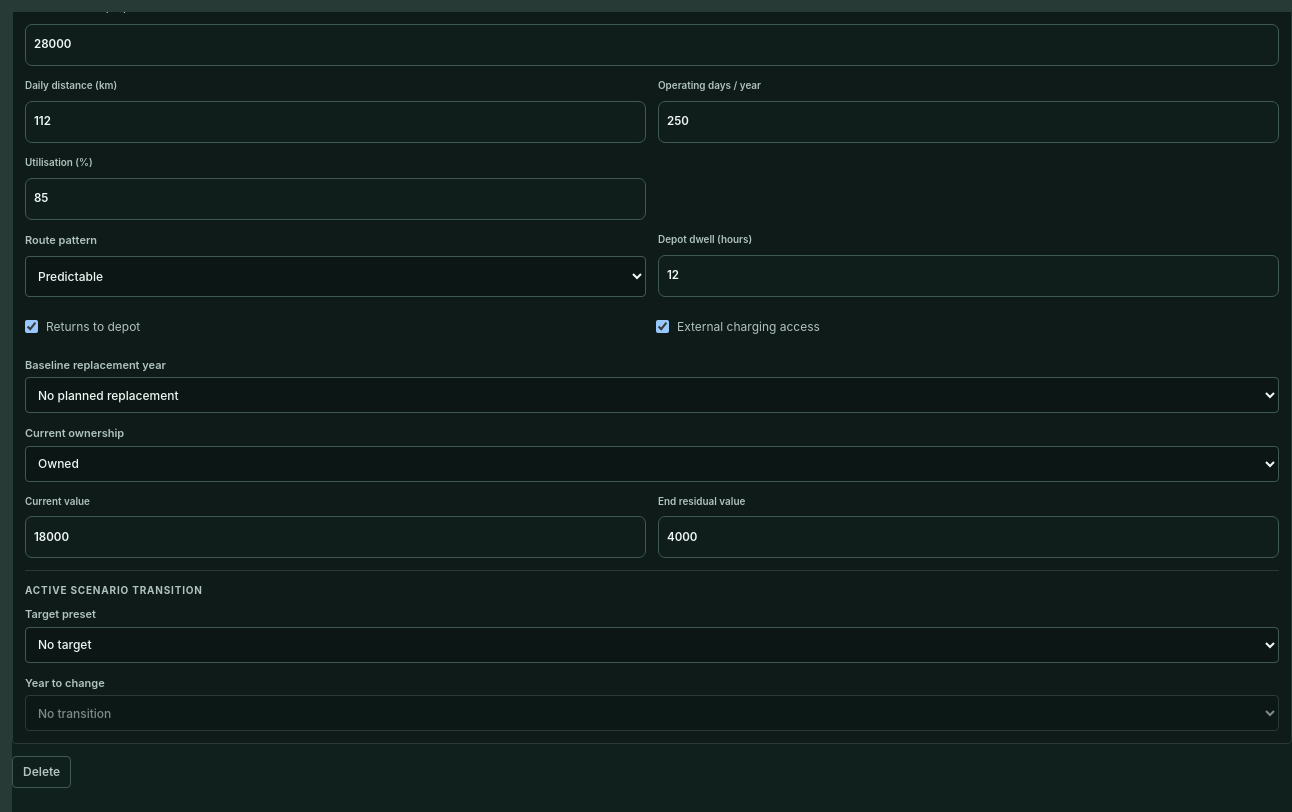
Test: Fleet Management › keeps invalid utilisation drafts out of the Project document
(page scrolled)
Replace the text in the number field labelled "Utilisation (%)" with "150": (336,199) [25,178,646,220]
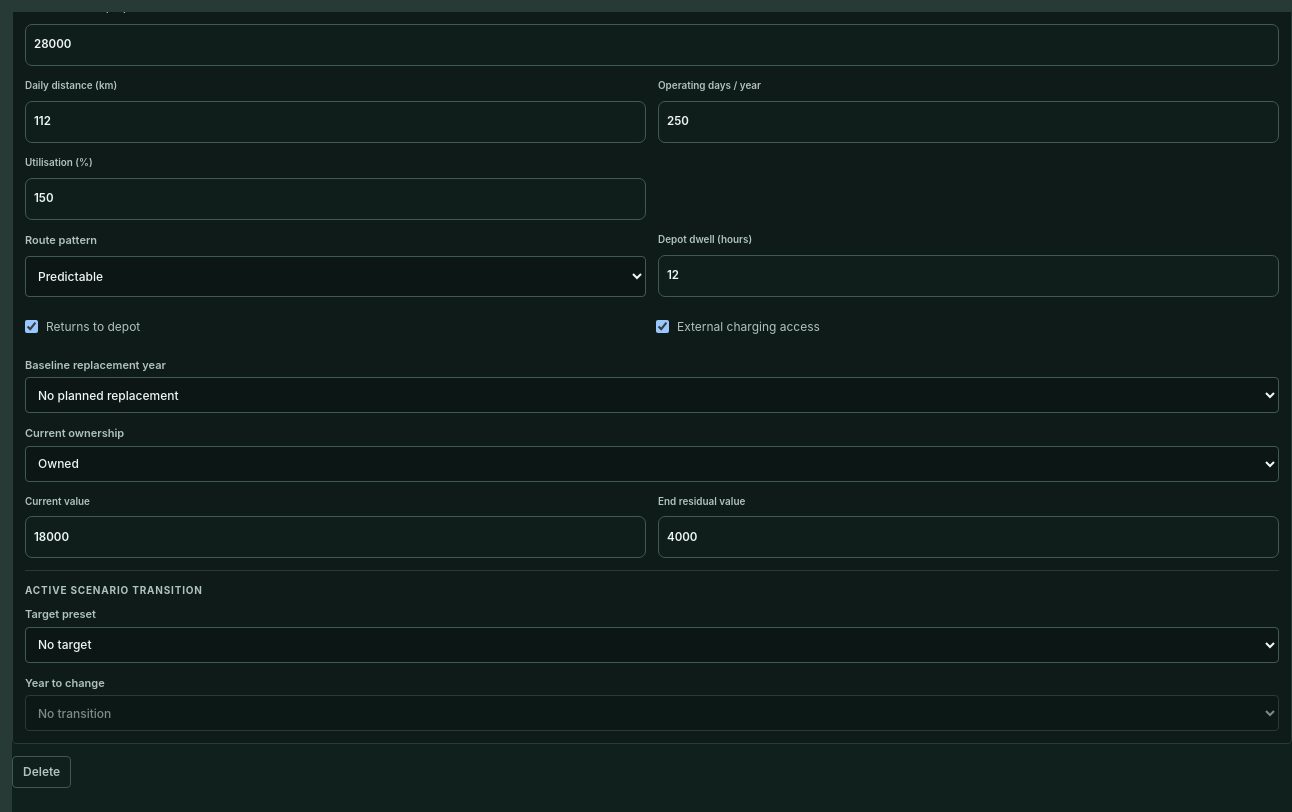
Leave the number field labelled "Utilisation (%)", box [25,178,646,220]
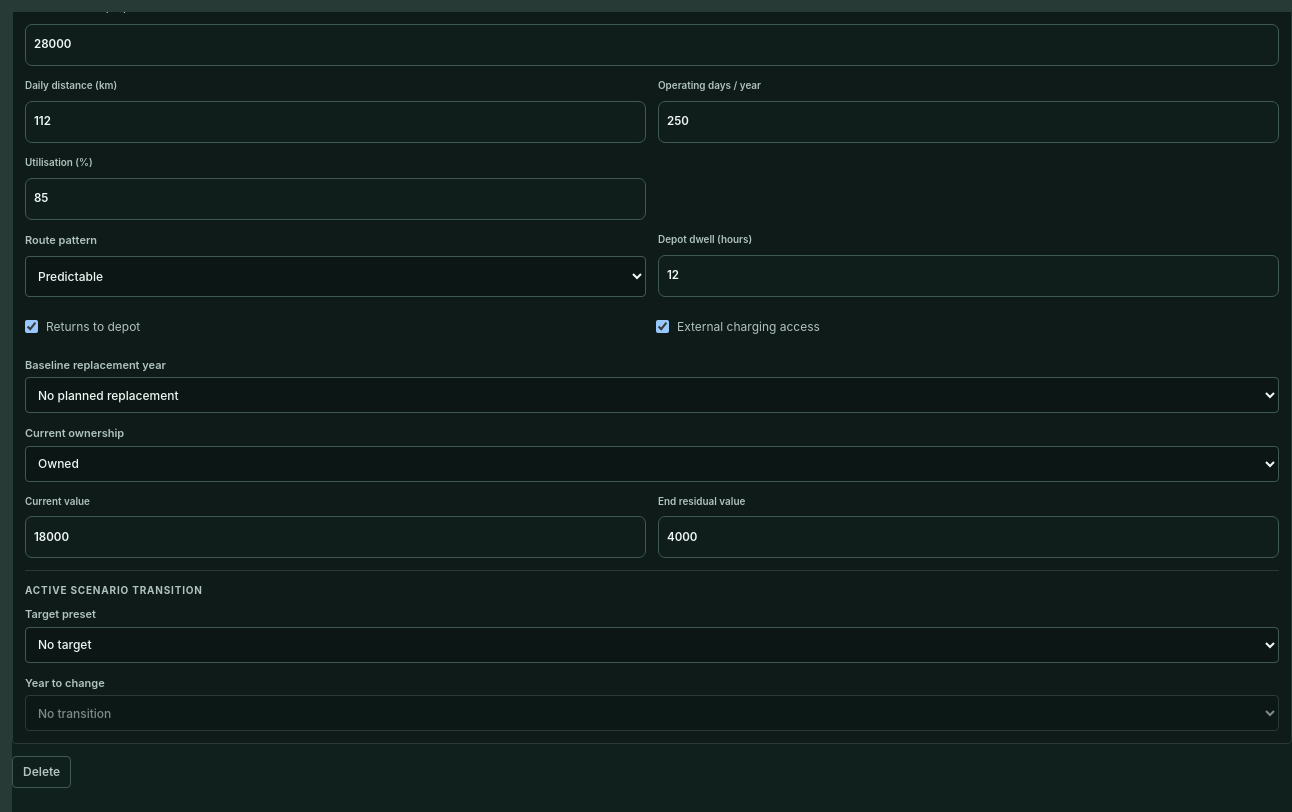
Expected: the number field labelled "Utilisation (%)" holds "85", [25,178,646,220]
